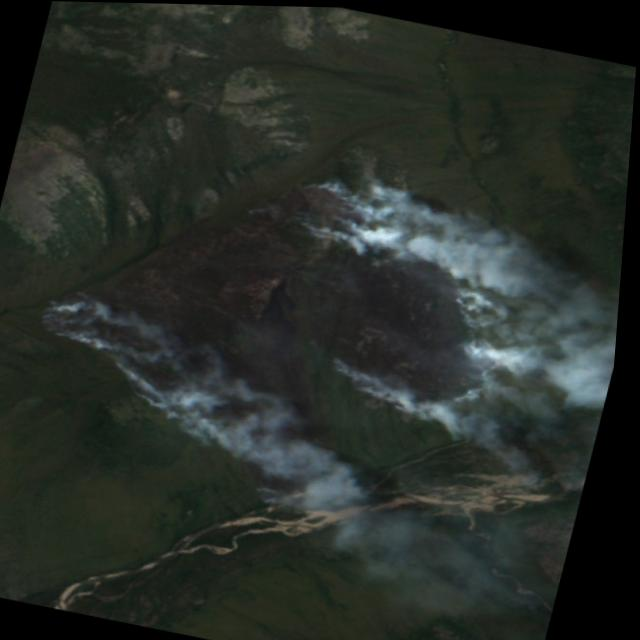fire: (0, 118, 563, 551)
